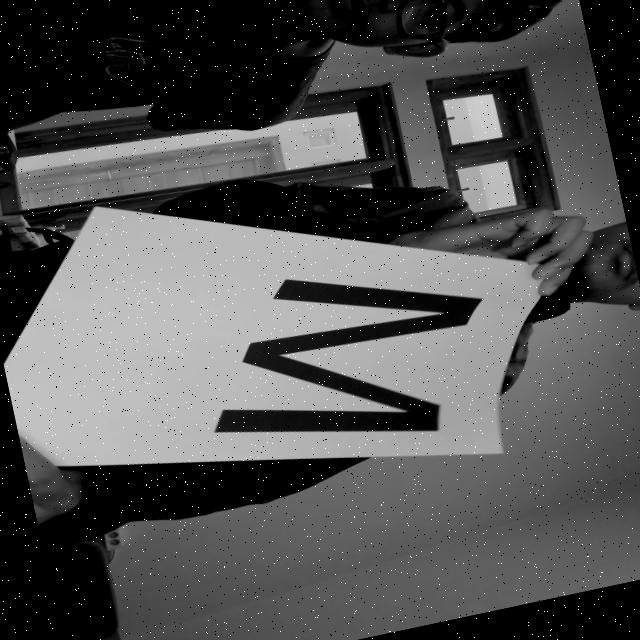m: (175, 222, 527, 484)
